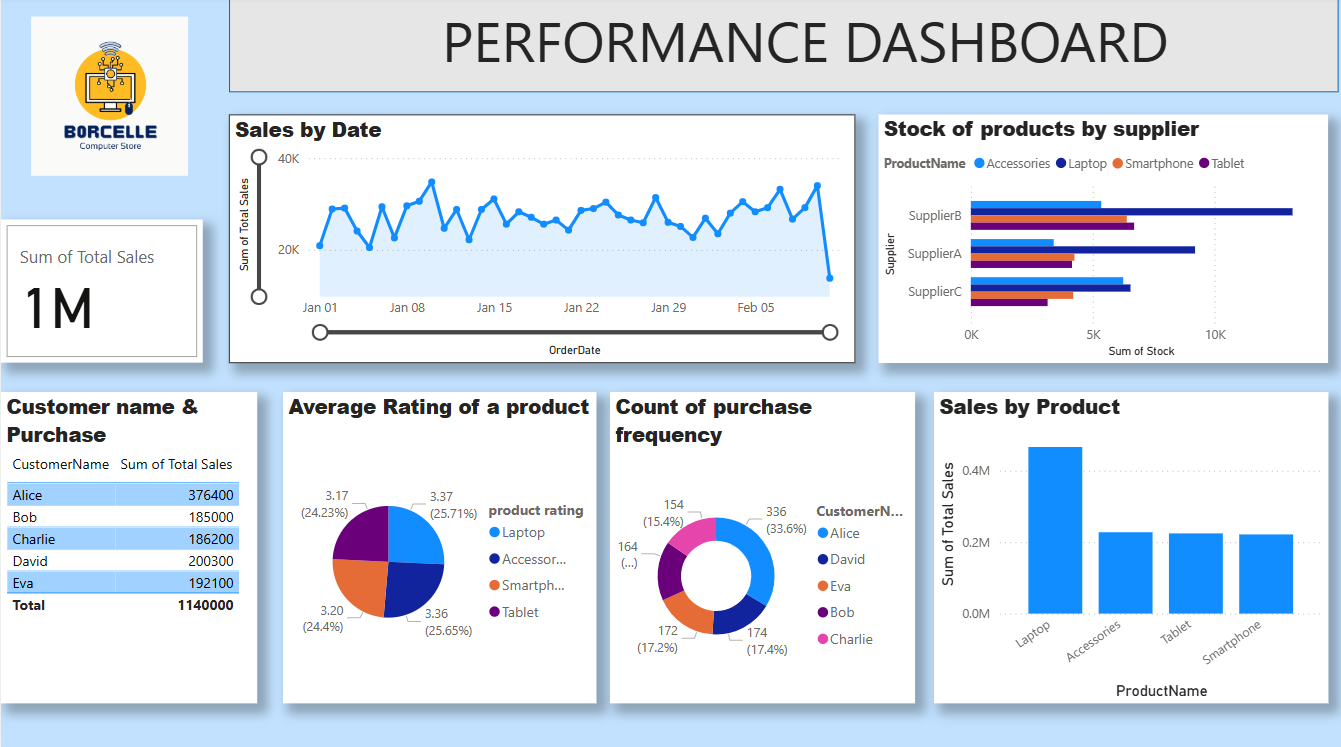

What the dashboard file says about the page in this screenshot:
{"tool":"powerbi","page":{"name":"dashboard","canvas":[1280,720],"ordinal":0},"visuals":[{"type":"lineChart","title":"Sales by Date","fields":{"Y":["Sales Data.Total Sales"],"Category":["Sales Data.OrderDate"]},"box":[217.9,112.9,598.1,237],"z":0},{"type":"tableEx","title":"Customer name & Purchase","fields":{"Values":["Sales Data.CustomerName","Sales Data.Total Sales"]},"box":[0,378.6,245,297.4],"z":1000},{"type":"pieChart","title":"Average Rating of a product","fields":{"Category":["Sales Data.ProductName"],"Y":["Customer Feedback.Rating"]},"box":[268.8,378.6,299,297.4],"z":2000},{"type":"donutChart","title":"Count of purchase frequency","fields":{"Category":["Sales Data.CustomerName"],"Y":["Customer Feedback.CustomerID"]},"box":[582.2,378.6,291.1,297.4],"z":3000},{"type":"clusteredBarChart","title":"Stock of products by supplier","fields":{"Category":["Inventory Data.Supplier"],"Y":["Inventory Data.Stock"],"Series":["Inventory Data.ProductName"]},"box":[838.3,112.9,429.5,237],"z":4000},{"type":"cardVisual","fields":{"Data":["Sales Data.Total Sales"]},"box":[0,213.1,192.5,136.8],"z":5000},{"type":"columnChart","title":"Sales by Product","fields":{"Category":["Sales Data.ProductName"],"Y":["Sales Data.Total Sales"]},"box":[890.7,378.6,377,297.4],"z":6000},{"type":"shape","box":[217.9,0,1062.5,92.3],"z":7000},{"type":"textbox","box":[254.5,0,1025.9,92.3],"z":8000},{"type":"image","box":[0,0,217.9,176.6],"z":9000}]}

Visuals, with their boxes in screenshot pixels (x1, y1, x2, y2), scaled from the page's 1280x720 canvas onto the 1341x747 screenshot:
"Sales by Date" lineChart: <bbox>228, 117, 855, 363</bbox>
"Customer name & Purchase" tableEx: <bbox>0, 393, 257, 701</bbox>
"Average Rating of a product" pieChart: <bbox>282, 393, 595, 701</bbox>
"Count of purchase frequency" donutChart: <bbox>610, 393, 915, 701</bbox>
"Stock of products by supplier" clusteredBarChart: <bbox>878, 117, 1328, 363</bbox>
cardVisual - Sales Data.Total Sales: <bbox>0, 221, 202, 363</bbox>
"Sales by Product" columnChart: <bbox>933, 393, 1328, 701</bbox>
shape: <bbox>228, 0, 1340, 96</bbox>
textbox: <bbox>267, 0, 1340, 96</bbox>
image: <bbox>0, 0, 228, 183</bbox>
